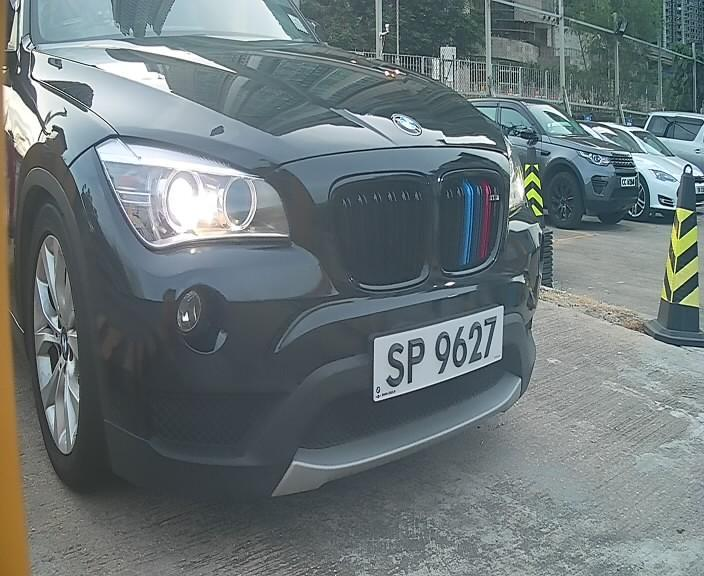privatecar: (13, 16, 569, 502)
